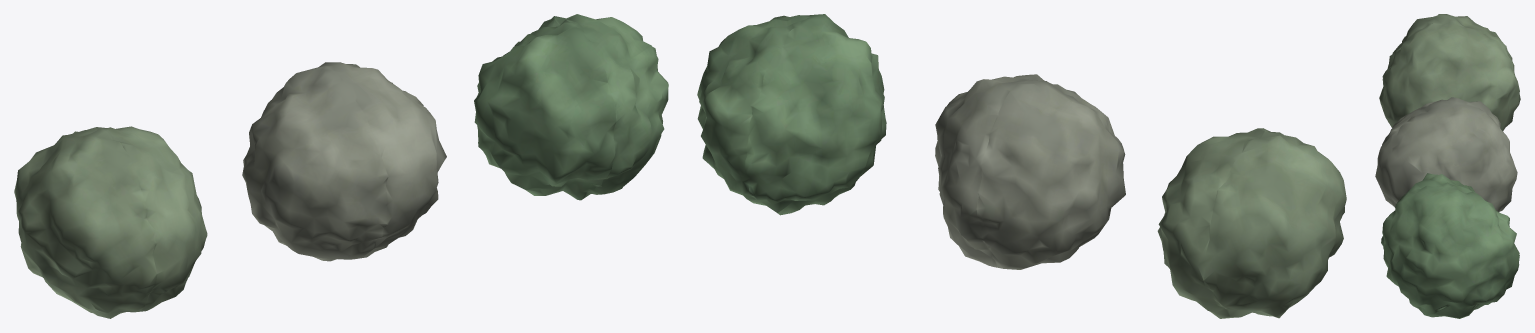
Rendered from asteroides.glb.
3 views of the same model, side by side, from view 1: azimuth 30°, elevation 25°; view 2: azimuth 150°, elevation 25°; view 3: azimuth 270°, elevation 25° (orthographic). The views are drawn at different scales.
Parts seen in each view (by area): view 1: mitad_L_1, mitad_L_0, mitad_L_2, mitad_R_1, mitad_R_2, mitad_R_0; view 2: mitad_L_1, mitad_L_2, mitad_L_0, mitad_R_2, mitad_R_0, mitad_R_1; view 3: mitad_R_2, mitad_R_1, mitad_R_0, mitad_L_0, mitad_L_2, mitad_L_1.
Part boxes in pixels (left/top/right/bottom): mitad_L_1: left=242, top=66, right=387, bottom=261; mitad_L_0: left=14, top=128, right=157, bottom=318; mitad_L_2: left=474, top=19, right=616, bottom=200; mitad_R_1: left=319, top=62, right=446, bottom=258; mitad_R_2: left=540, top=14, right=668, bottom=198; mitad_R_0: left=79, top=126, right=207, bottom=312; mitad_L_1: left=977, top=80, right=1125, bottom=269; mitad_L_2: left=745, top=14, right=886, bottom=215; mitad_L_0: left=1203, top=131, right=1346, bottom=318; mitad_R_2: left=697, top=14, right=815, bottom=205; mitad_R_0: left=1157, top=128, right=1275, bottom=318; mitad_R_1: left=935, top=74, right=1049, bottom=267; mitad_R_2: left=1382, top=185, right=1519, bottom=318; mitad_R_1: left=1375, top=102, right=1517, bottom=211; mitad_R_0: left=1379, top=22, right=1520, bottom=130; mitad_L_0: left=1379, top=14, right=1514, bottom=103; mitad_L_2: left=1381, top=173, right=1519, bottom=267; mitad_L_1: left=1382, top=97, right=1507, bottom=145.
Bounding box in the file's own units: 3.3 × 0.8996 × 0.9101.
4 materials, 3 textured.
